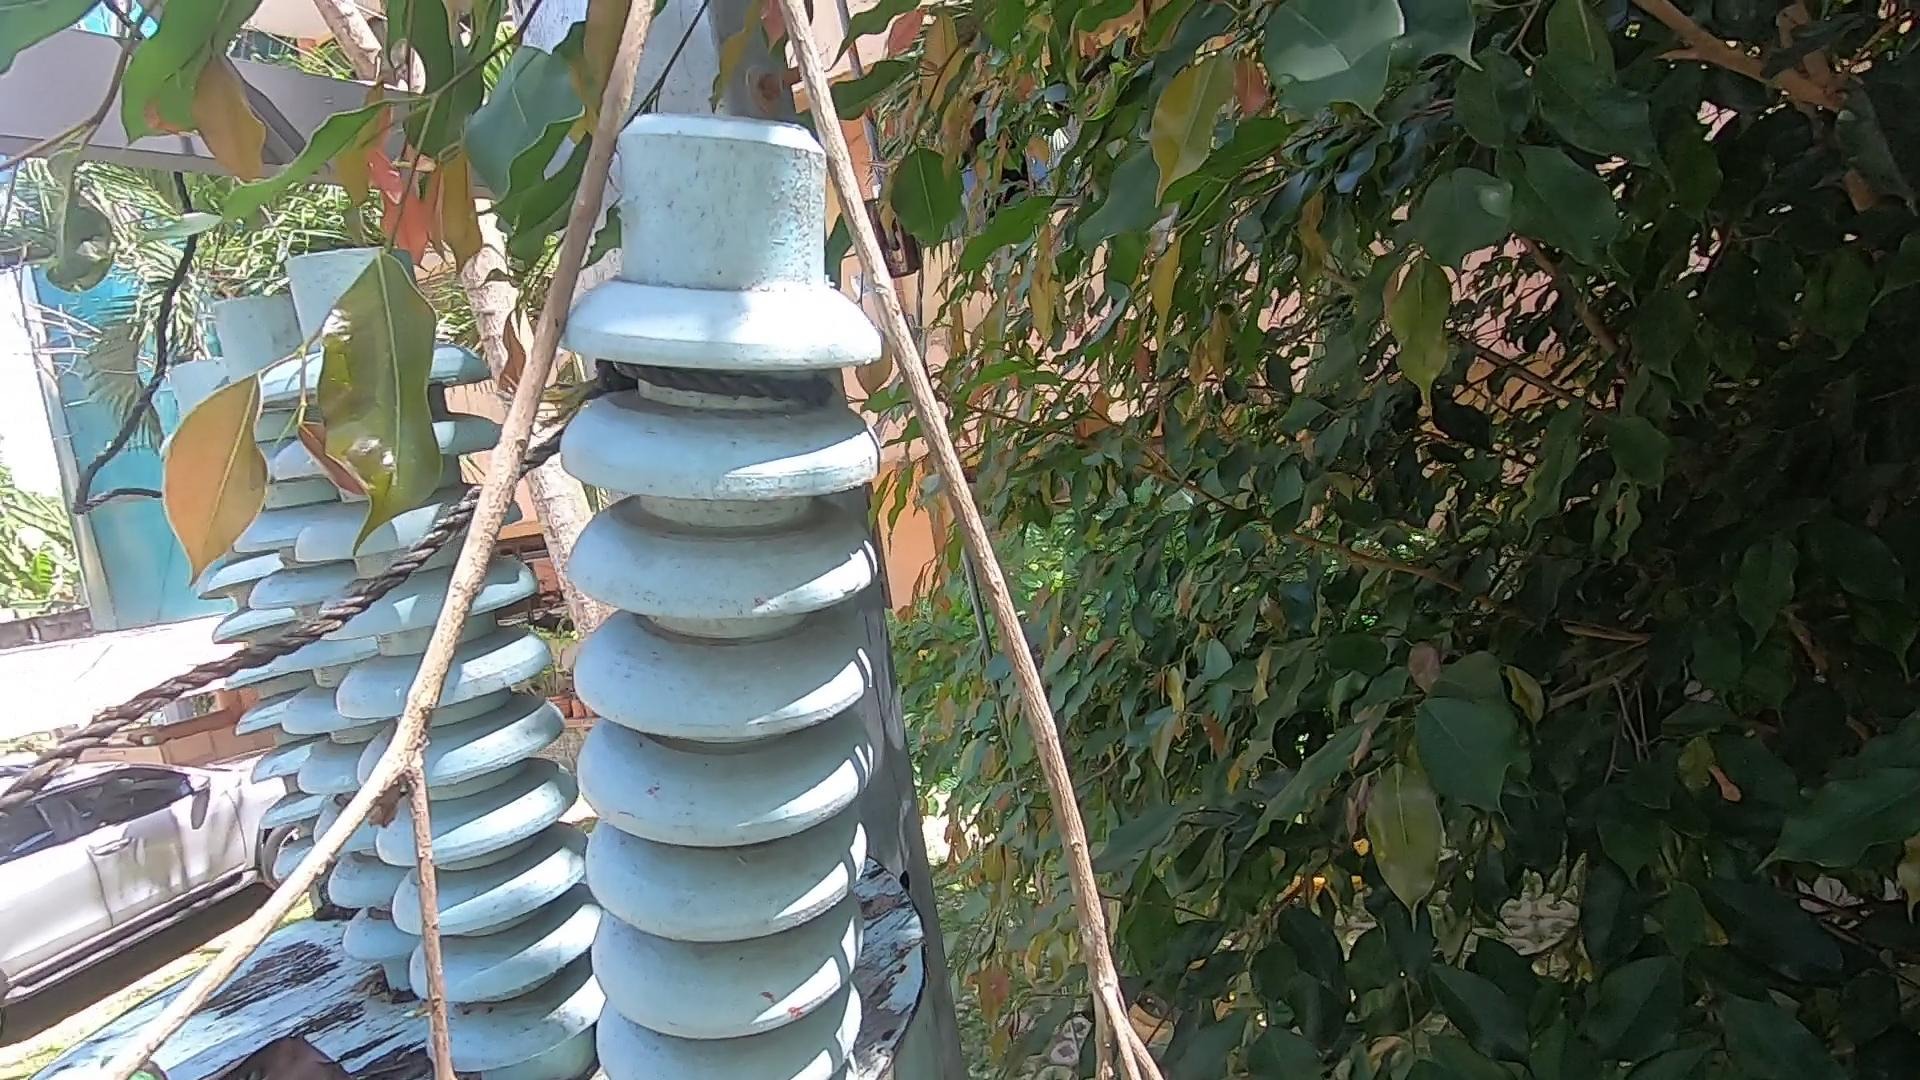leaf: (204, 1021, 355, 1080)
tree branch: (61, 1, 1183, 1077)
